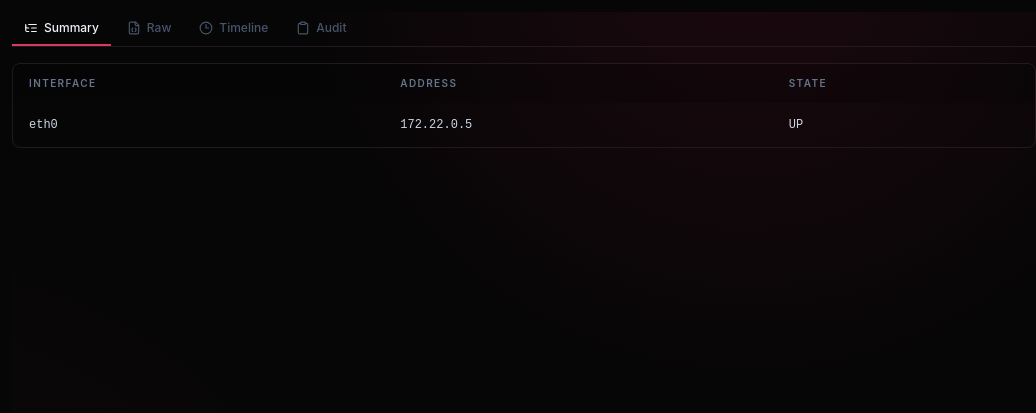
StructuredResult › uses an operator-friendly summary before raw JSON
Expected: the column heading "Interface" is shown, [13, 64, 384, 103]
Expected: the text "eth0" is shown, [13, 103, 384, 147]
Click the button "Raw".
click(149, 29)  # box [115, 12, 183, 46]
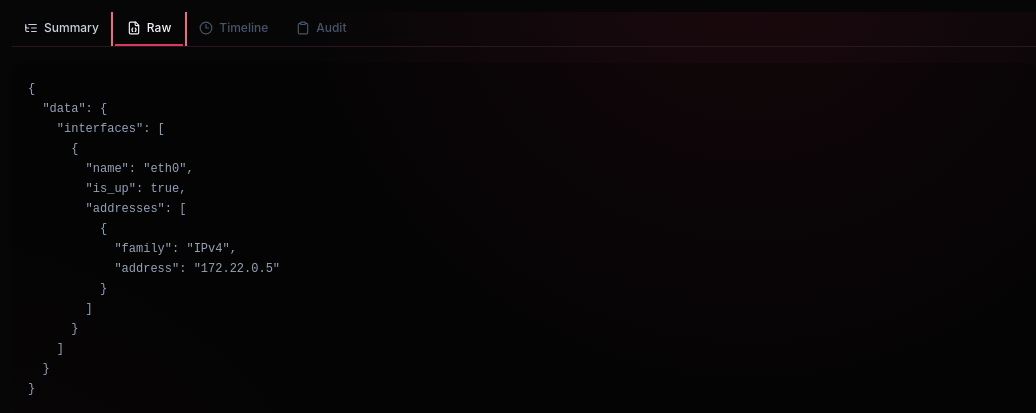
Expected: the text "\"interfaces\"" is shown, [28, 82, 280, 396]
Click the button "Timeline".
click(234, 29)  # box [187, 12, 280, 46]
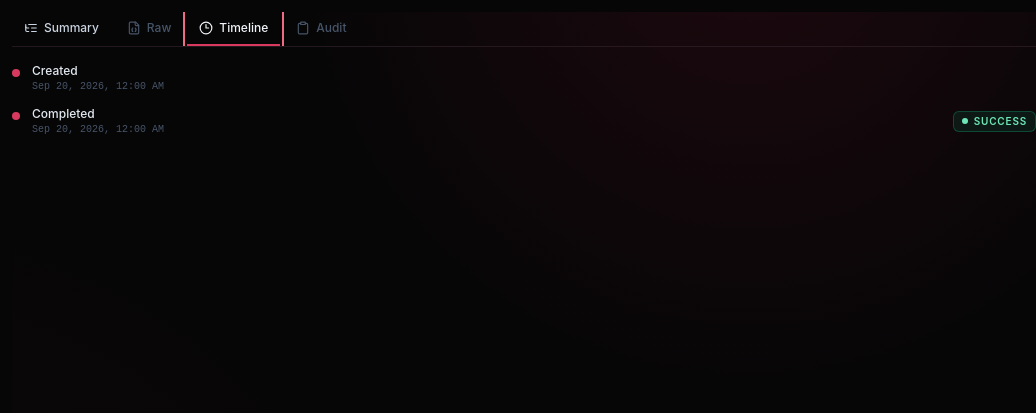
Expected: the text "Created" is shown, [32, 63, 78, 78]
Expected: the text "Completed" is shown, [32, 106, 95, 121]
Click the button "Audit".
click(321, 29)  # box [284, 12, 358, 46]
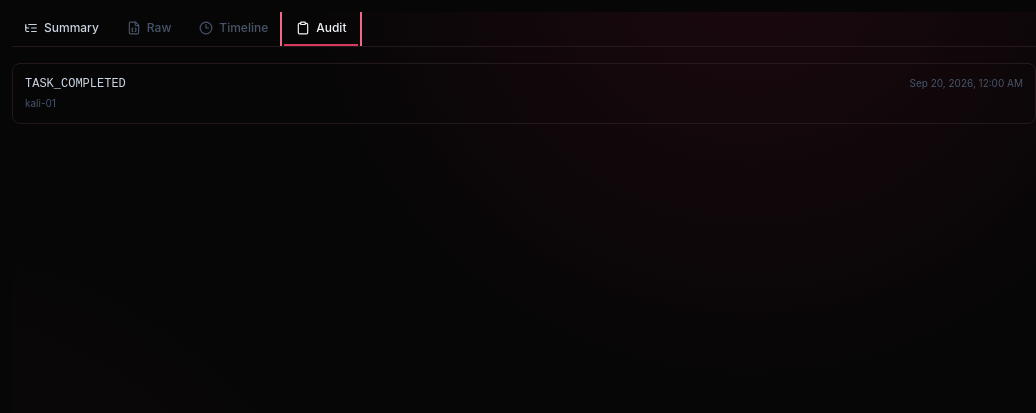
Expected: the text "TASK_COMPLETED" is shown, [25, 76, 126, 92]
